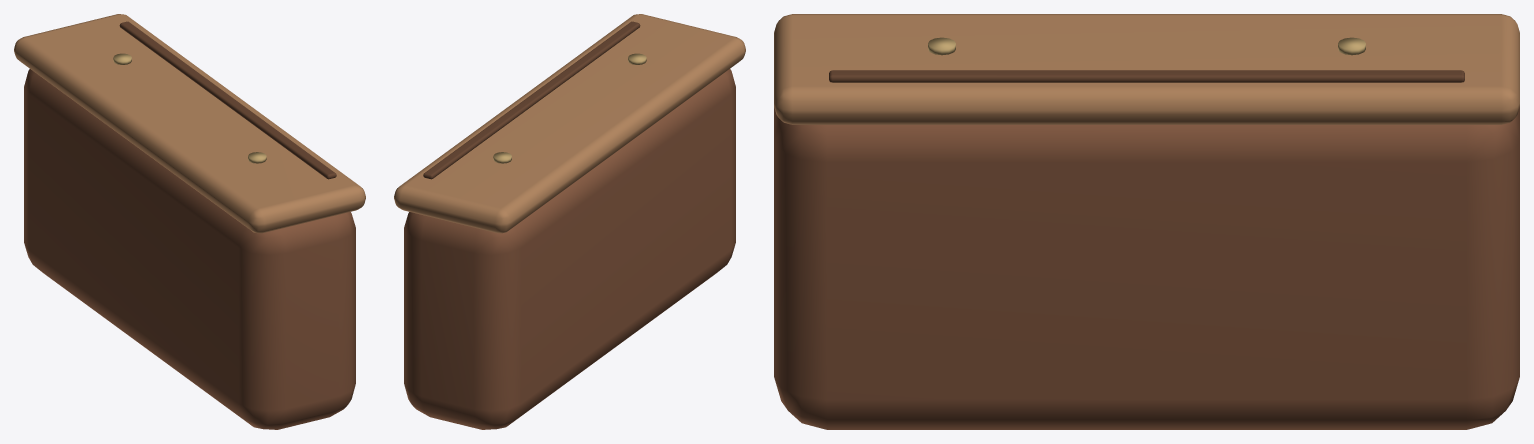
Rendered from PP_Kit_RailStraight.fbx.
The picture shows the model from 3 angles, left to right: view 1: azimuth 30°, elevation 25°; view 2: azimuth 150°, elevation 25°; view 3: azimuth 270°, elevation 25°; orthographic projection. The views are drawn at different scales.
Parts seen in each view (by area): view 1: KIT_RailStraight_105; view 2: KIT_RailStraight_105; view 3: KIT_RailStraight_105.
Boxes of the visible parts, left/top/right/bottom form: KIT_RailStraight_105: left=14, top=14, right=365, bottom=429; KIT_RailStraight_105: left=394, top=14, right=745, bottom=429; KIT_RailStraight_105: left=774, top=14, right=1519, bottom=429.
Bounding box in the file's own units: 28.8 × 56.55 × 105.
